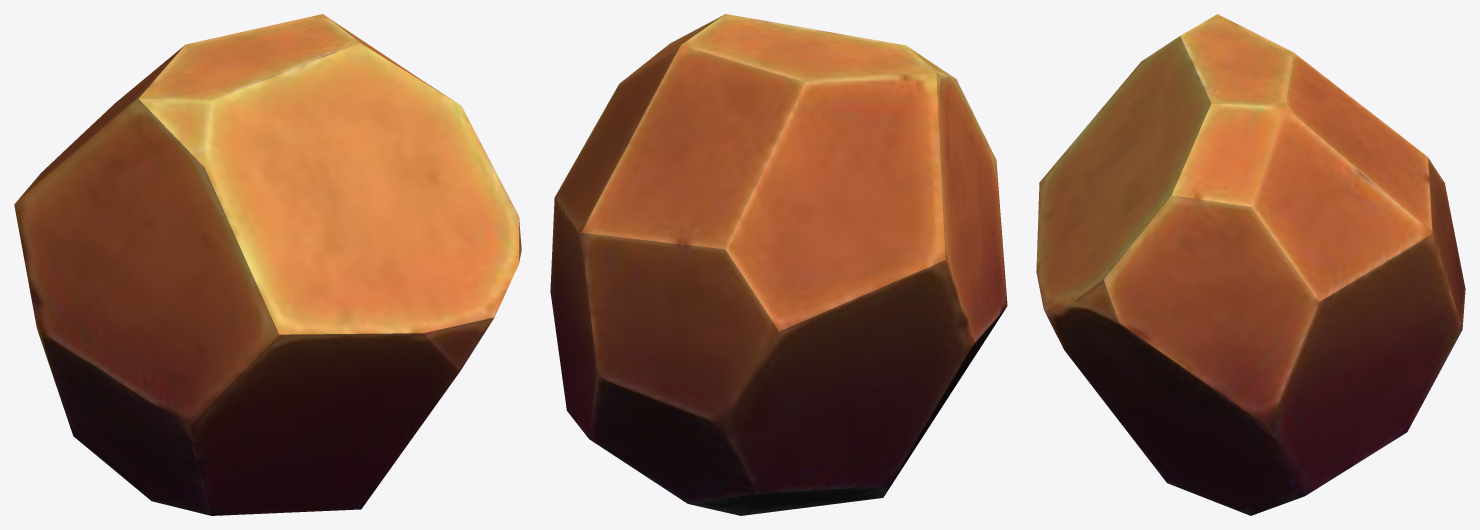
Rendered from rock-small-4.glb.
3 renders of one model, left to right at view 1: azimuth 30°, elevation 25°; view 2: azimuth 150°, elevation 25°; view 3: azimuth 270°, elevation 25°, orthographic. The views are drawn at different scales.
Parts seen in each view (by area): view 1: S_Rock_05_14; view 2: S_Rock_05_14; view 3: S_Rock_05_14.
Part boxes in pixels (x1=…): S_Rock_05_14: x1=14, y1=14, x2=521, y2=515; S_Rock_05_14: x1=550, y1=14, x2=1007, y2=515; S_Rock_05_14: x1=1036, y1=14, x2=1465, y2=515.
Bounding box in the file's own units: 1.14 × 1.18 × 1.11.
1 material, 1 textured.
